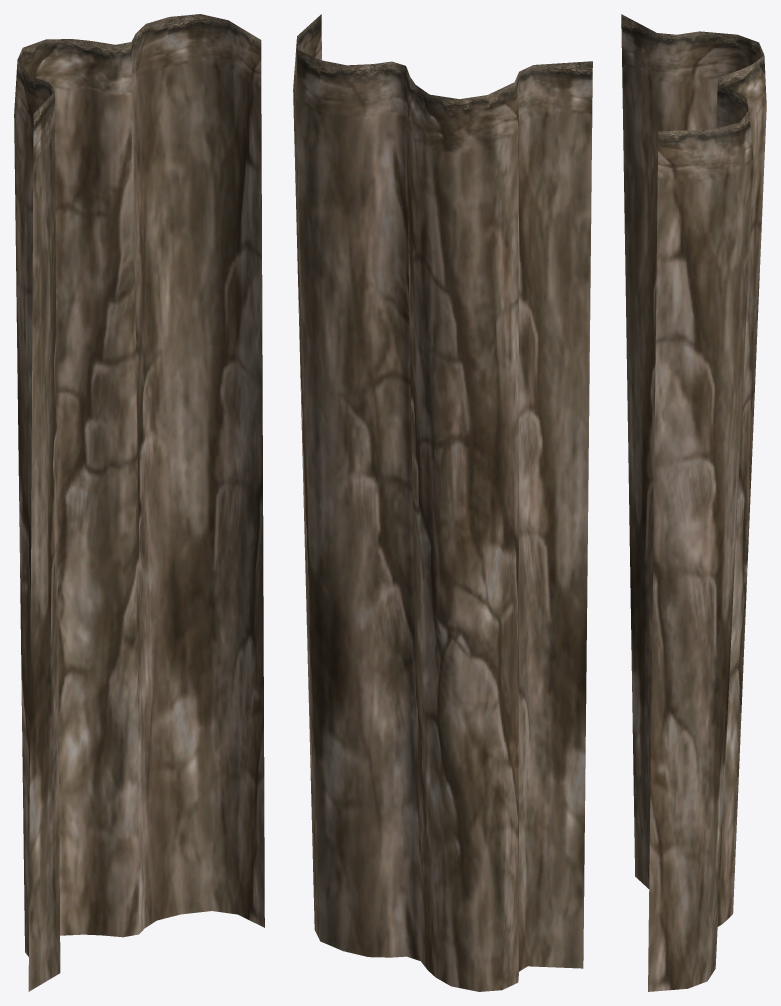
The model's file is OVERHILL_A_01_WALL4.fbx.
3 renders of one model, left to right at view 1: azimuth 30°, elevation 25°; view 2: azimuth 150°, elevation 25°; view 3: azimuth 270°, elevation 25°, orthographic. The views are drawn at different scales.
Parts seen in each view (by area): view 1: OVERHILL_A_01_WALL4; view 2: OVERHILL_A_01_WALL4; view 3: OVERHILL_A_01_WALL4.
Boxes of the visible parts, box(x1,y1,x2,y2) form: OVERHILL_A_01_WALL4: box(14, 14, 264, 991); OVERHILL_A_01_WALL4: box(293, 14, 592, 991); OVERHILL_A_01_WALL4: box(621, 14, 766, 991).
Size of the model in its own units: 55827 by 191169 by 29266.
2 materials, 2 textured.
